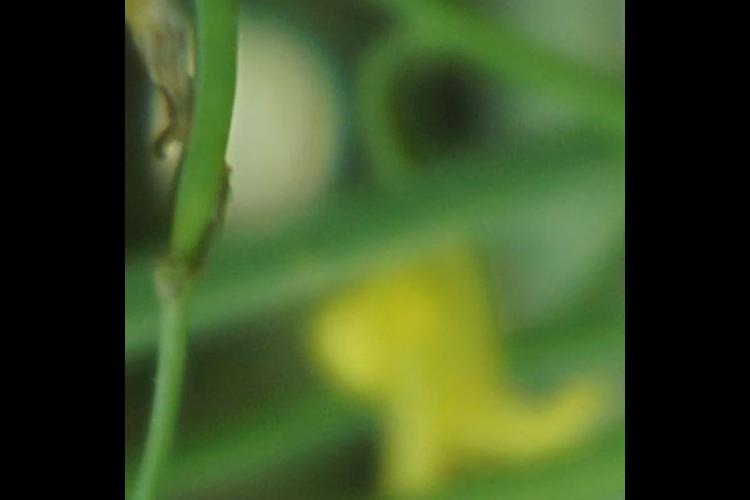pod: (143, 1, 256, 319)
